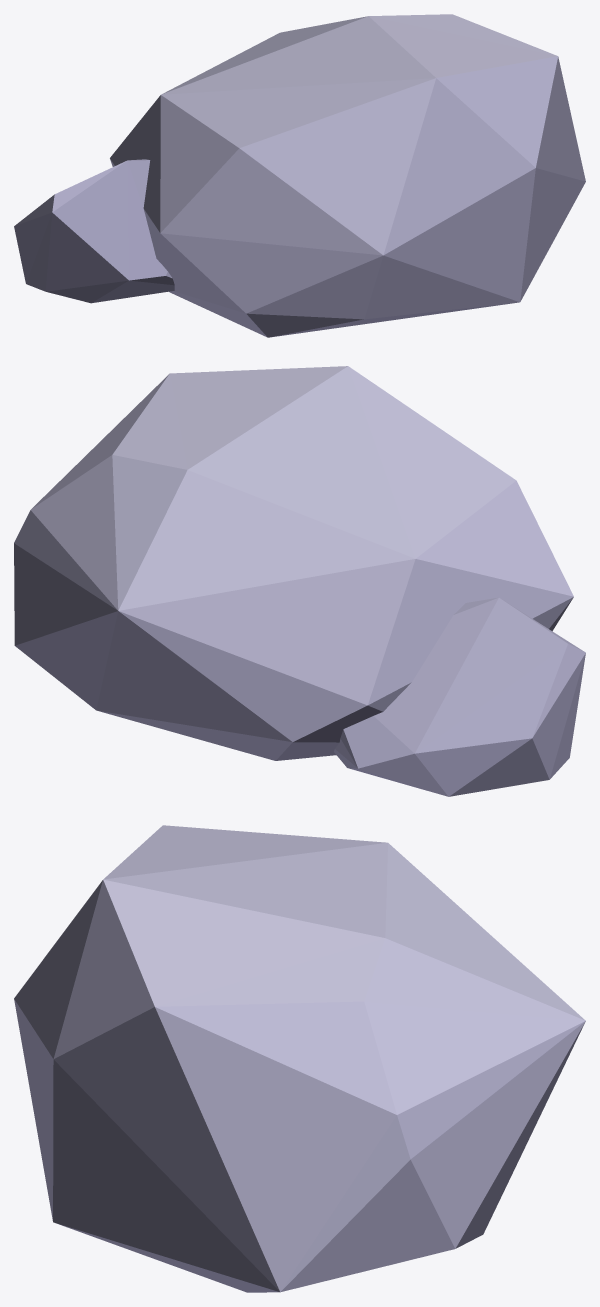
File: Rock_0.glb
3 renders of one model, top to bottom at view 1: azimuth 30°, elevation 25°; view 2: azimuth 150°, elevation 25°; view 3: azimuth 270°, elevation 25°, orthographic. The views are drawn at different scales.
Visible parts, largest first — view 1: Rock_0; view 2: Rock_0; view 3: Rock_0.
Boxes of the visible parts, x1,y1,x2,y2 form: Rock_0: [14, 14, 585, 337]; Rock_0: [14, 366, 585, 796]; Rock_0: [14, 825, 585, 1292].
Size of the model in its own units: 4 by 1.68 by 2.89.
1 material, 1 textured.
